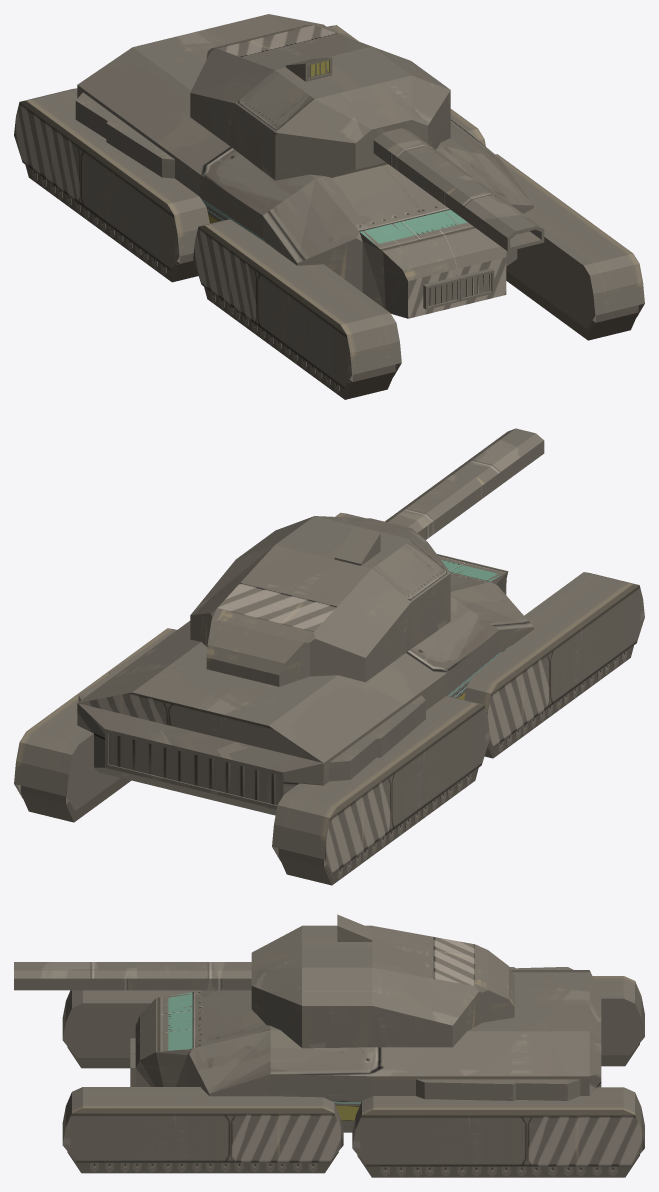
File: tank_siege_1.dae
The picture shows the model from 3 angles, top to bottom: view 1: azimuth 30°, elevation 25°; view 2: azimuth 150°, elevation 25°; view 3: azimuth 270°, elevation 25°; orthographic projection. The views are drawn at different scales.
Visible parts, largest first — view 1: tank_space; view 2: tank_space; view 3: tank_space.
Boxes of the visible parts, x1,y1,x2,y2 form: tank_space: (14, 14, 644, 399); tank_space: (14, 428, 644, 885); tank_space: (14, 914, 644, 1177).
Bounding box in the file's own units: 10.01 × 19.91 × 6.32.
